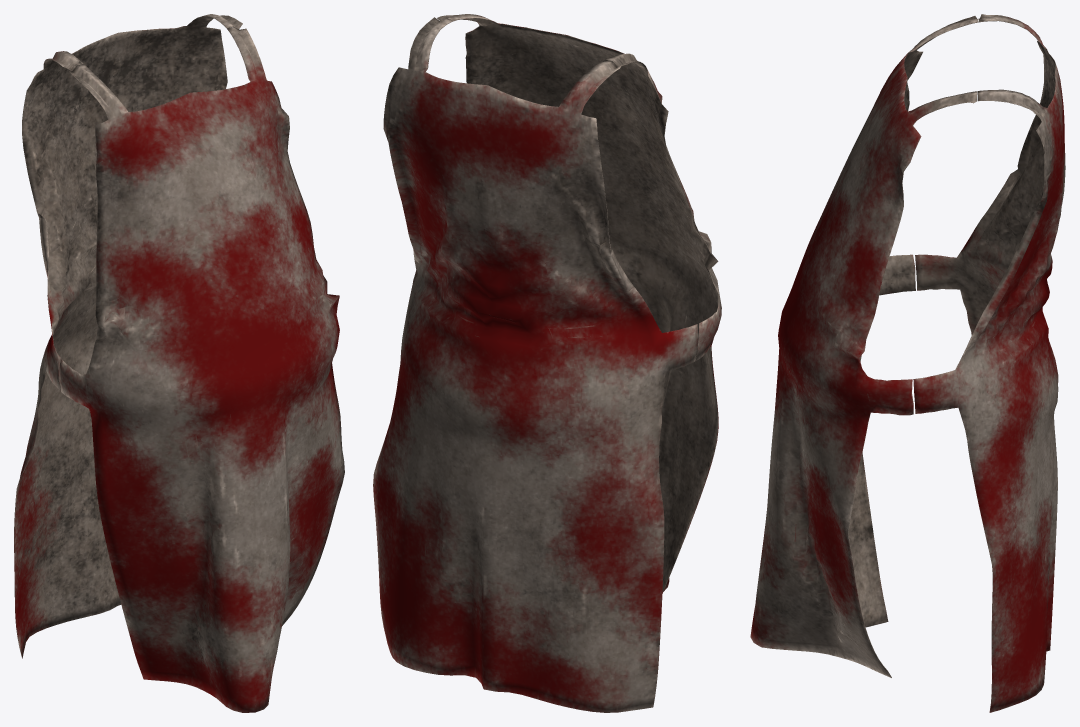
The model's file is Donny Coat.fbx.
3 views of the same model, side by side, from view 1: azimuth 30°, elevation 25°; view 2: azimuth 150°, elevation 25°; view 3: azimuth 270°, elevation 25° (orthographic). The views are drawn at different scales.
Parts seen in each view (by area): view 1: Robe; view 2: Robe; view 3: Robe.
Part boxes in pixels (x1,y1,x2,y2): Robe: (14,14,344,712); Robe: (373,14,721,712); Robe: (750,14,1065,712).
Size of the model in its own units: 195 by 404 by 193.
Materials: 1 (1 with a texture image).
